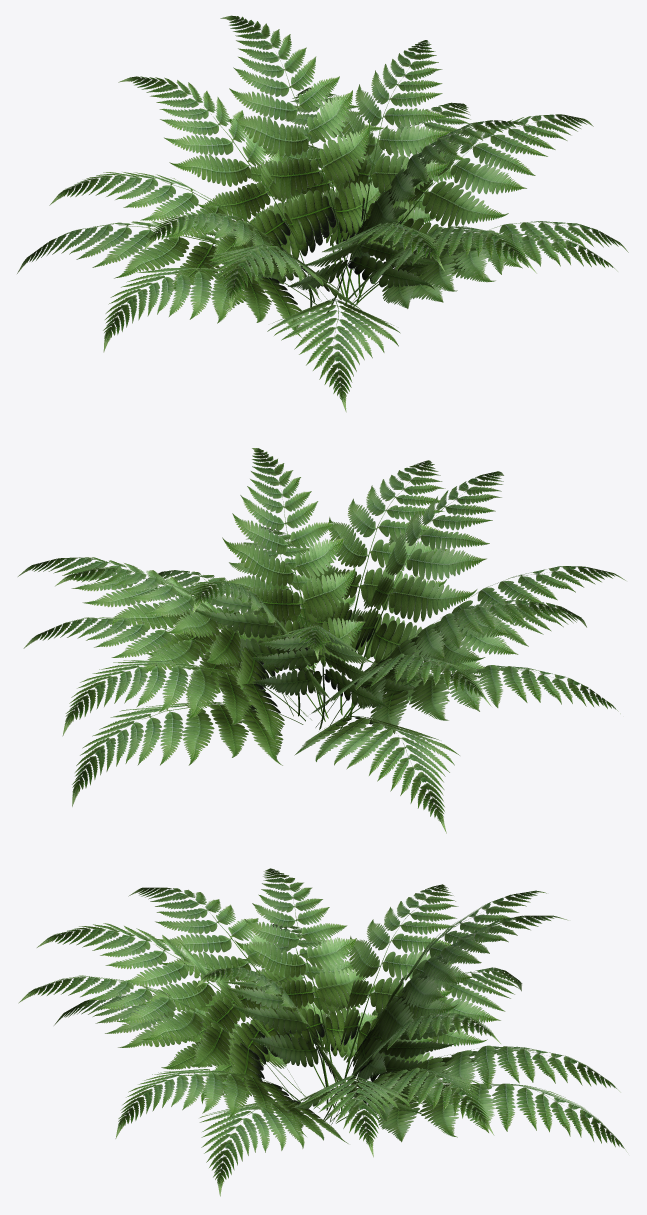
File: tree11.fbx
3 views of the same model, one above another, from view 1: azimuth 30°, elevation 25°; view 2: azimuth 150°, elevation 25°; view 3: azimuth 270°, elevation 25° (orthographic).
Visible parts, largest first — view 1: SM_MZRa_Fern_B0532; view 2: SM_MZRa_Fern_B0532; view 3: SM_MZRa_Fern_B0532.
Part boxes in pixels (x1,y1,x2,y2): SM_MZRa_Fern_B0532: (17, 15, 628, 412); SM_MZRa_Fern_B0532: (18, 448, 625, 833); SM_MZRa_Fern_B0532: (18, 868, 627, 1196).
Size of the model in its own units: 192 by 69.4 by 186.
